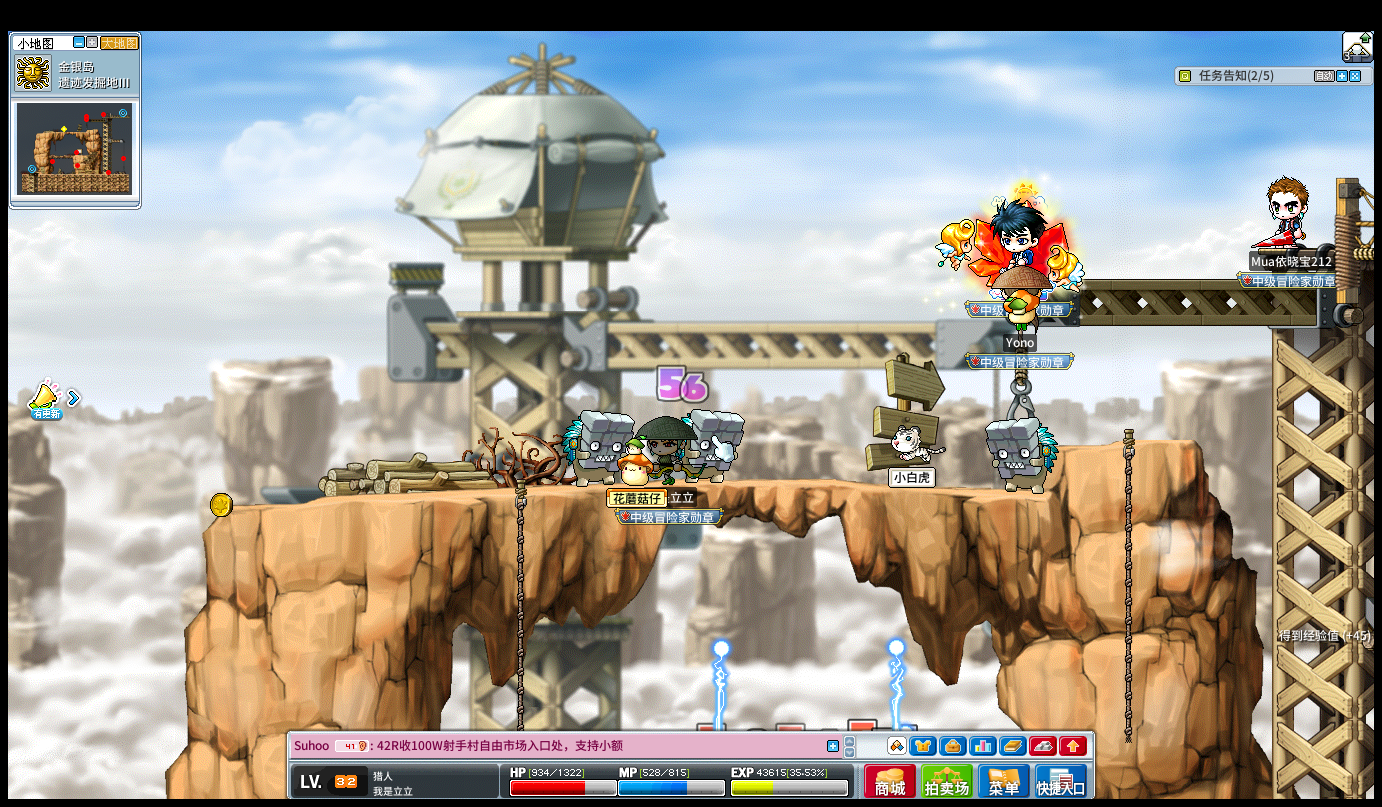floor: (205, 475, 1118, 500), (1059, 437, 1196, 451), (1056, 435, 1197, 448)
monster: (984, 417, 1058, 495), (560, 410, 630, 487), (685, 408, 745, 483)
rope: (1120, 427, 1135, 744), (514, 478, 526, 675)
